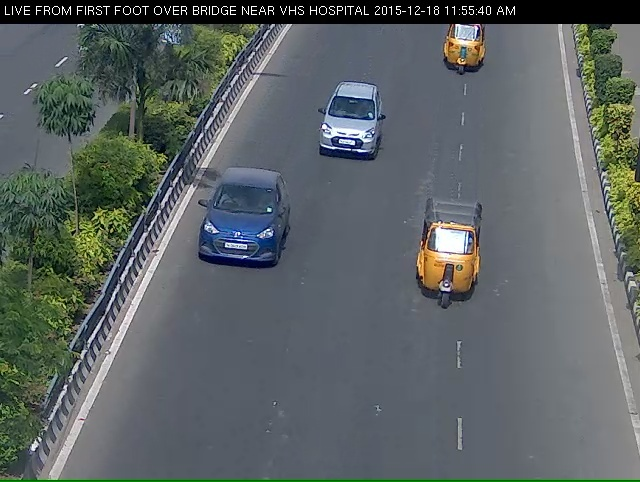Auto: (415, 213, 483, 337), (436, 23, 491, 85)
Car: (186, 183, 284, 301), (308, 90, 386, 187)
